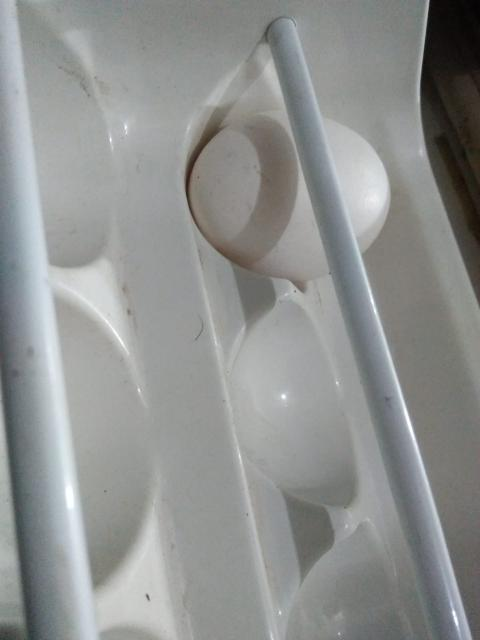Sano: (187, 104, 393, 280)
